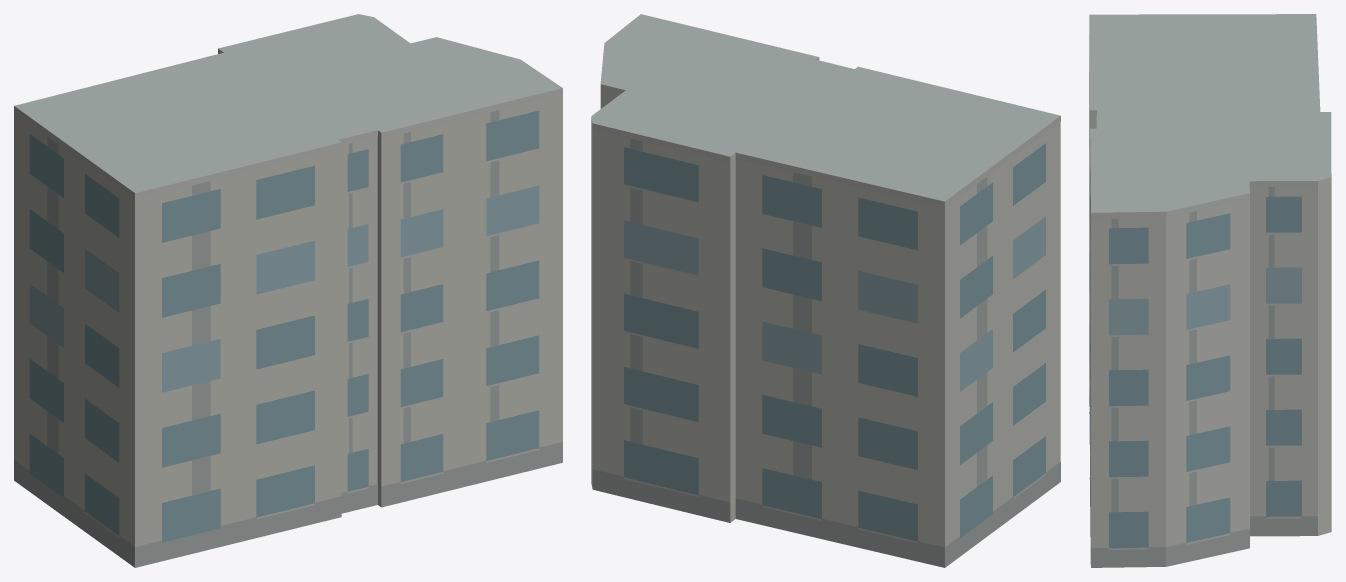
The model's file is survey-upis-32494665.glb.
3 renders of one model, left to right at view 1: azimuth 30°, elevation 25°; view 2: azimuth 150°, elevation 25°; view 3: azimuth 270°, elevation 25°, orthographic. The views are drawn at different scales.
Visible parts, largest first — view 1: survey-upis-32494665.tmp; view 2: survey-upis-32494665.tmp; view 3: survey-upis-32494665.tmp.
Part boxes in pixels (left/top/right/bottom): survey-upis-32494665.tmp: left=14, top=14, right=562, bottom=567; survey-upis-32494665.tmp: left=591, top=14, right=1060, bottom=567; survey-upis-32494665.tmp: left=1089, top=14, right=1331, bottom=567.
Bounding box in the file's own units: 17.24 × 14.35 × 8.89.
